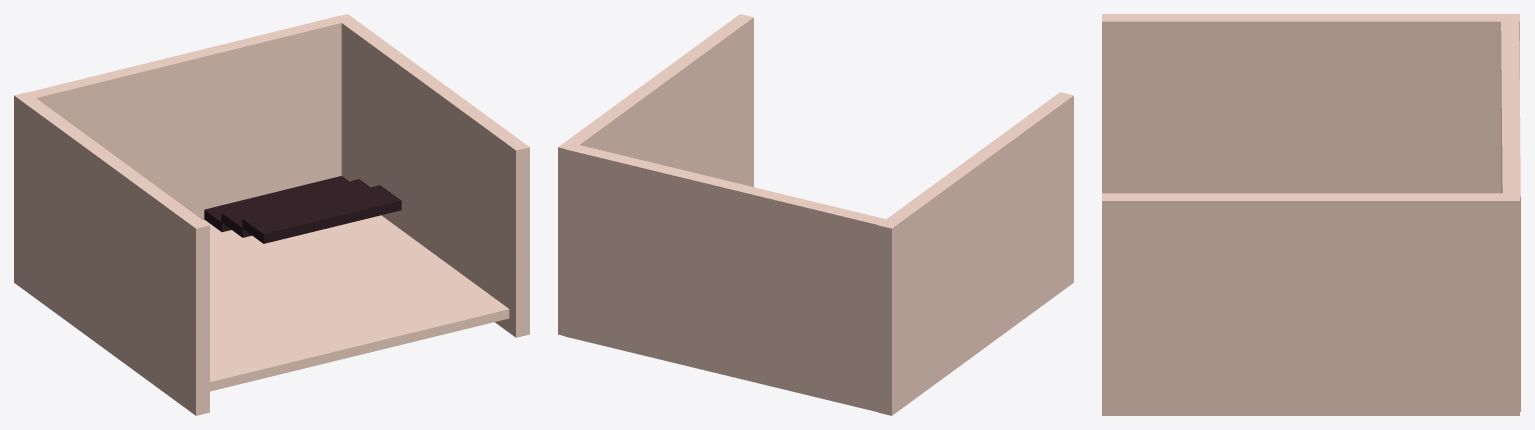
The picture shows the model from 3 angles, left to right: view 1: azimuth 30°, elevation 25°; view 2: azimuth 150°, elevation 25°; view 3: azimuth 270°, elevation 25°; orthographic projection. The views are drawn at different scales.
Visible parts, largest first — view 1: Cube006, Cube, Cube002, Cube004, Cube001, Cube009, Cube003, Cube008, Cube007, Cube005; view 2: Cube006, Cube002, Cube004, Cube005, Cube001, Cube003; view 3: Cube004, Cube002, Cube003, Cube006.
Part boxes in pixels (bbox=[...]): Cube006: bbox=[28, 15, 341, 209]; Cube: bbox=[203, 215, 509, 391]; Cube002: bbox=[14, 92, 209, 377]; Cube004: bbox=[334, 14, 529, 299]; Cube001: bbox=[14, 244, 209, 415]; Cube009: bbox=[242, 185, 401, 243]; Cube003: bbox=[341, 172, 529, 337]; Cube008: bbox=[221, 179, 369, 237]; Cube007: bbox=[204, 176, 348, 232]; Cube005: bbox=[189, 172, 341, 220]; Cube006: bbox=[565, 145, 885, 373]; Cube002: bbox=[878, 92, 1073, 377]; Cube004: bbox=[558, 14, 753, 298]; Cube005: bbox=[565, 298, 877, 412]; Cube001: bbox=[878, 244, 1073, 415]; Cube003: bbox=[558, 167, 753, 335]; Cube004: bbox=[1102, 193, 1519, 372]; Cube002: bbox=[1102, 14, 1519, 193]; Cube003: bbox=[1102, 372, 1519, 415]; Cube006: bbox=[1501, 21, 1520, 368].
Size of the model in its own units: 18.1 by 9.7 by 17.13.
